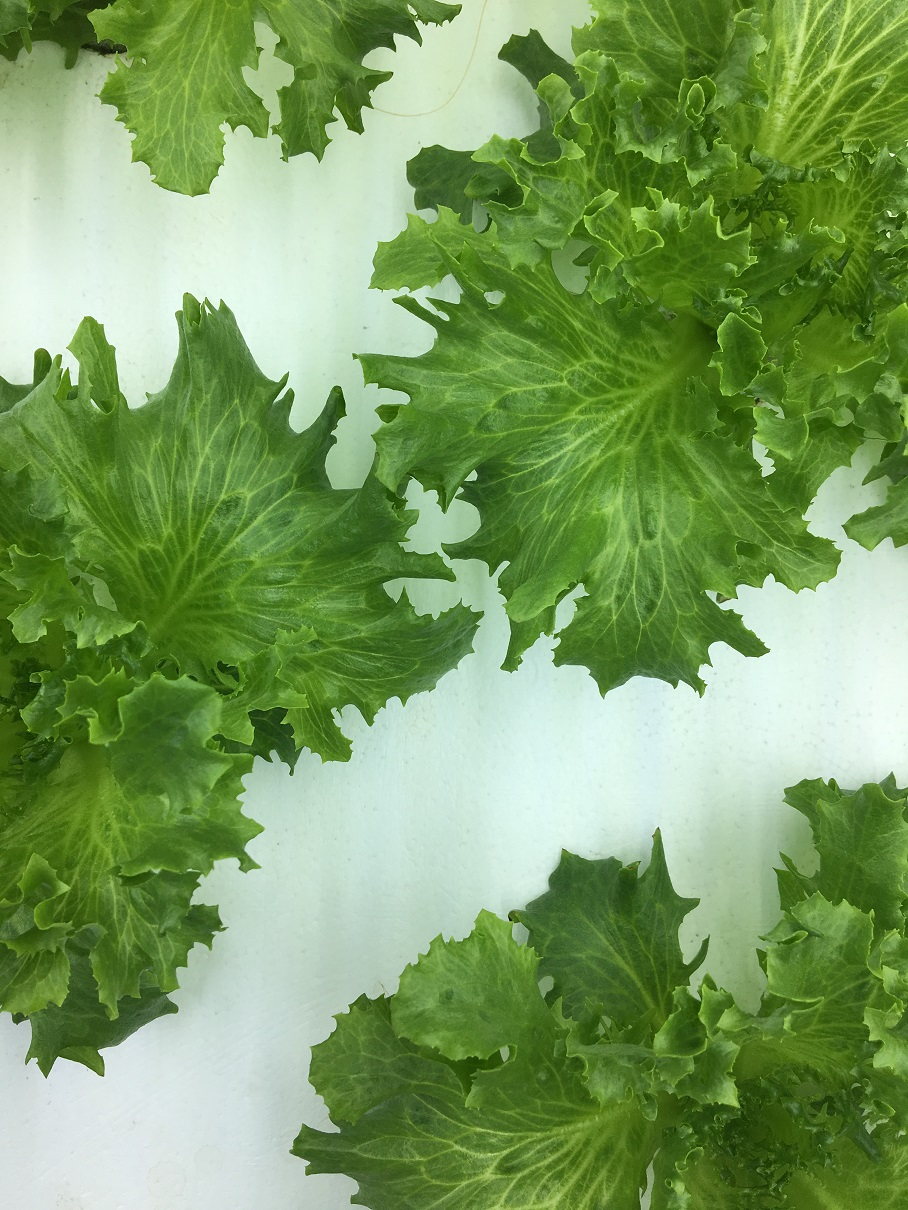tipburn: (505, 904, 522, 928)
